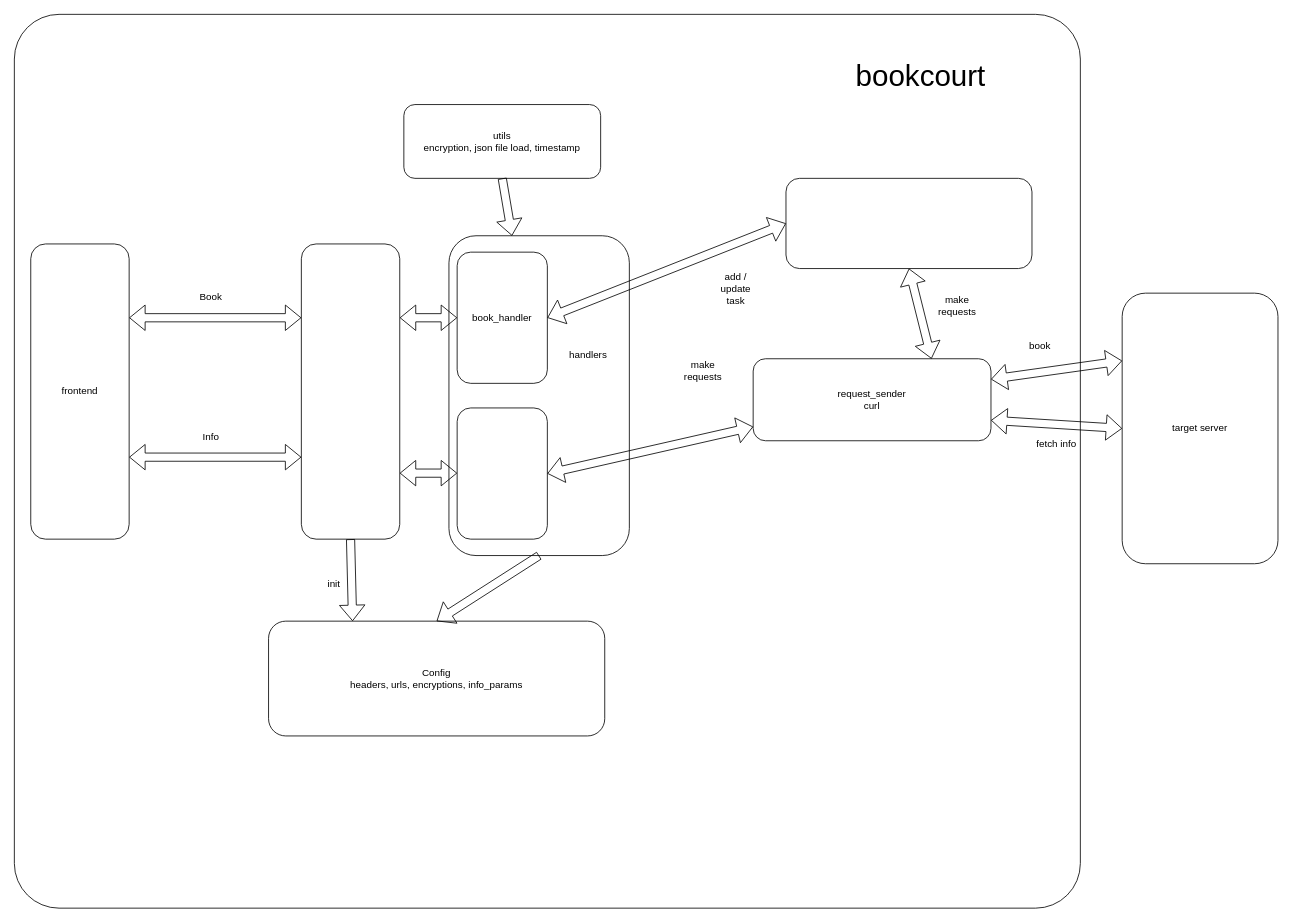
This 1292x923 diagram has some shape labels left out. The box of each missing label's shape, as (x1, y1, x2, y2) in pixels:
info_handler: (456, 407, 547, 539)
task timer: (785, 178, 1032, 269)
webserver: (301, 243, 400, 539)
